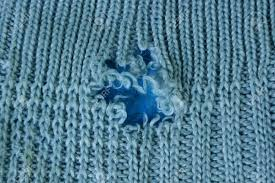Hole: (56, 23, 224, 157)
